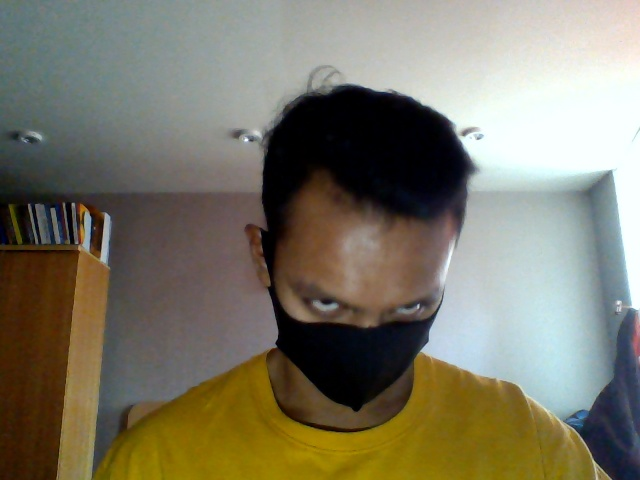mask: (266, 286, 447, 415)
